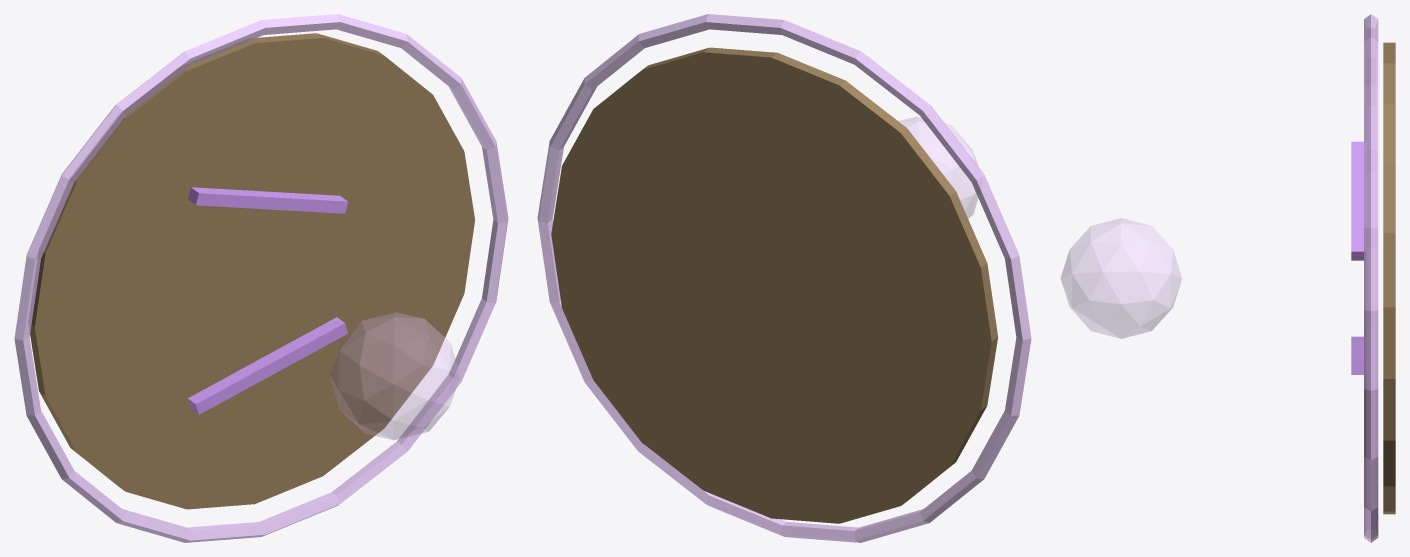
File: 07_weather_terrain_nature_effect.glb
3 views of the same model, side by side, from view 1: azimuth 30°, elevation 25°; view 2: azimuth 150°, elevation 25°; view 3: azimuth 270°, elevation 25° (orthographic). The views are drawn at different scales.
Parts seen in each view (by area): view 1: terrain_patch, weather_boundary, weather_orb, terrain_marker_a, terrain_marker_b; view 2: terrain_patch, weather_boundary, weather_orb; view 3: weather_orb, weather_boundary, terrain_patch, terrain_marker_b, terrain_marker_a.
Part boxes in pixels (x1=…): terrain_patch: x1=29, y1=33, x2=474, y2=509; weather_boundary: x1=14, y1=14, x2=508, y2=542; weather_orb: x1=330, y1=312, x2=459, y2=439; terrain_marker_a: x1=188, y1=317, x2=347, y2=414; terrain_marker_b: x1=188, y1=187, x2=347, y2=213; terrain_patch: x1=551, y1=47, x2=997, y2=523; weather_boundary: x1=537, y1=14, x2=1031, y2=542; weather_orb: x1=898, y1=117, x2=978, y2=218; weather_orb: x1=1060, y1=218, x2=1181, y2=338; weather_boundary: x1=1364, y1=14, x2=1378, y2=542; terrain_patch: x1=1383, y1=42, x2=1395, y2=514; terrain_marker_b: x1=1351, y1=141, x2=1365, y2=260; terrain_marker_a: x1=1351, y1=336, x2=1365, y2=374.
Size of the model in its own units: 1.75 by 1.75 by 1.1.
